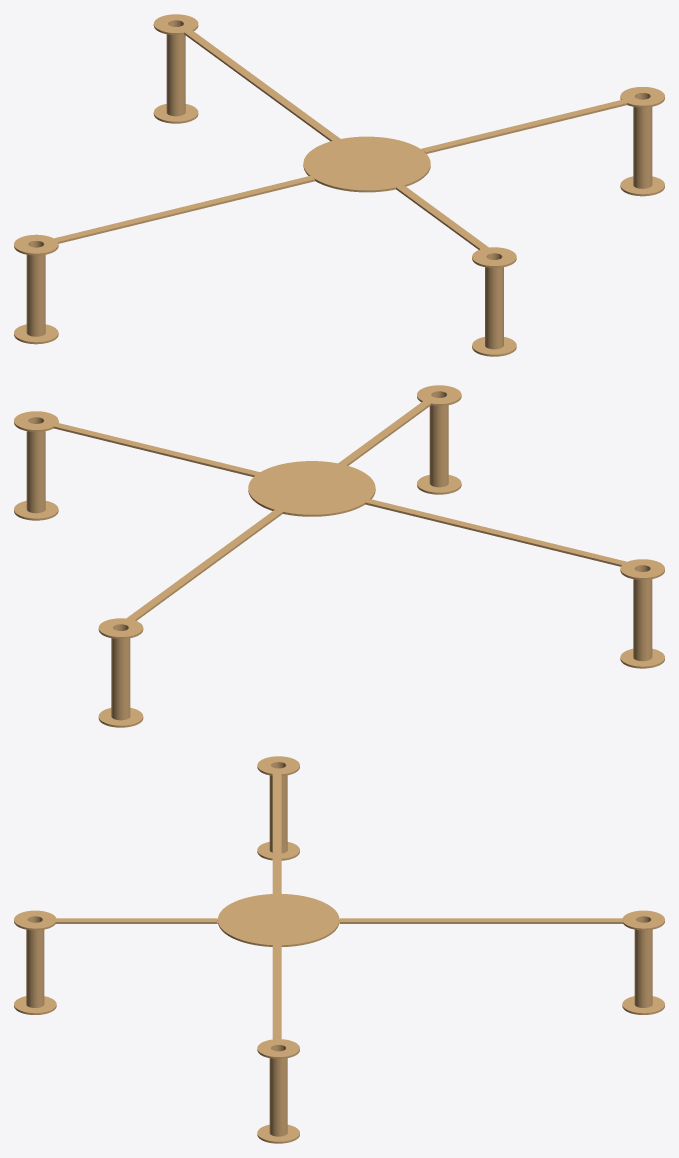
The model's file is board.glb.
3 renders of one model, top to bottom at view 1: azimuth 30°, elevation 25°; view 2: azimuth 150°, elevation 25°; view 3: azimuth 270°, elevation 25°, orthographic. The views are drawn at different scales.
Visible parts, largest first — view 1: Unified_Net_5_Island_16, Unified_Net_8_Island_6, Bare_Via_Tube_4, Bare_Via_Tube_3, Bare_Via_Tube_2, Unified_Net_6_Island_12, Bare_Via_Tube_1, Unified_Net_7_Island_9, Unified_Net_5_Island_15, Unified_Net_1_Island_4, Unified_Net_4_Island_7, Unified_Net_3_Island_10 (+5 smaller); view 2: Unified_Net_5_Island_16, Unified_Net_8_Island_6, Bare_Via_Tube_3, Bare_Via_Tube_4, Bare_Via_Tube_1, Bare_Via_Tube_2, Unified_Net_6_Island_12, Unified_Net_7_Island_9, Unified_Net_5_Island_15, Unified_Net_4_Island_7, Unified_Net_2_Island_13, Unified_Net_1_Island_4 (+5 smaller); view 3: Unified_Net_5_Island_16, Unified_Net_6_Island_12, Bare_Via_Tube_3, Bare_Via_Tube_1, Bare_Via_Tube_2, Unified_Net_8_Island_6, Unified_Net_5_Island_15, Unified_Net_7_Island_9, Bare_Via_Tube_4, Unified_Net_1_Island_4, Unified_Net_3_Island_10, Unified_Net_2_Island_13 (+1 smaller).
Boxes of the visible parts, box(x1,y1,x2,y2) form: Unified_Net_5_Island_16: box(303, 136, 430, 192); Unified_Net_8_Island_6: box(43, 176, 314, 244); Bare_Via_Tube_4: box(26, 241, 45, 336); Bare_Via_Tube_3: box(633, 93, 652, 188); Bare_Via_Tube_2: box(166, 20, 185, 116); Unified_Net_6_Island_12: box(178, 25, 340, 141); Bare_Via_Tube_1: box(485, 253, 503, 349); Unified_Net_7_Island_9: box(421, 97, 637, 153); Unified_Net_5_Island_15: box(396, 185, 495, 253); Unified_Net_1_Island_4: box(472, 247, 516, 267); Unified_Net_4_Island_7: box(14, 234, 58, 255); Unified_Net_3_Island_10: box(620, 87, 664, 107); Unified_Net_5_Island_16: box(248, 461, 375, 516); Unified_Net_8_Island_6: box(365, 499, 638, 567); Bare_Via_Tube_3: box(26, 417, 45, 513); Bare_Via_Tube_4: box(633, 565, 652, 661); Bare_Via_Tube_1: box(429, 391, 448, 487); Bare_Via_Tube_2: box(111, 624, 130, 720); Unified_Net_6_Island_12: box(119, 510, 282, 624); Unified_Net_7_Island_9: box(43, 420, 259, 476); Unified_Net_5_Island_15: box(338, 397, 435, 465); Unified_Net_4_Island_7: box(620, 559, 664, 579); Unified_Net_2_Island_13: box(98, 618, 143, 638); Unified_Net_1_Island_4: box(417, 385, 461, 405); Unified_Net_5_Island_16: box(217, 894, 339, 946); Unified_Net_6_Island_12: box(339, 918, 635, 923); Bare_Via_Tube_3: box(269, 1045, 287, 1136); Bare_Via_Tube_1: box(26, 916, 44, 1007); Bare_Via_Tube_2: box(634, 916, 652, 1007); Unified_Net_8_Island_6: box(272, 768, 281, 893); Unified_Net_5_Island_15: box(43, 918, 217, 923); Unified_Net_7_Island_9: box(272, 945, 281, 1044); Bare_Via_Tube_4: box(269, 762, 287, 853); Unified_Net_1_Island_4: box(14, 910, 56, 930); Unified_Net_3_Island_10: box(257, 1039, 299, 1058); Unified_Net_2_Island_13: box(622, 910, 664, 930).
Bounding box in the file's own units: 0.0117 × 0.00157 × 0.0107.
